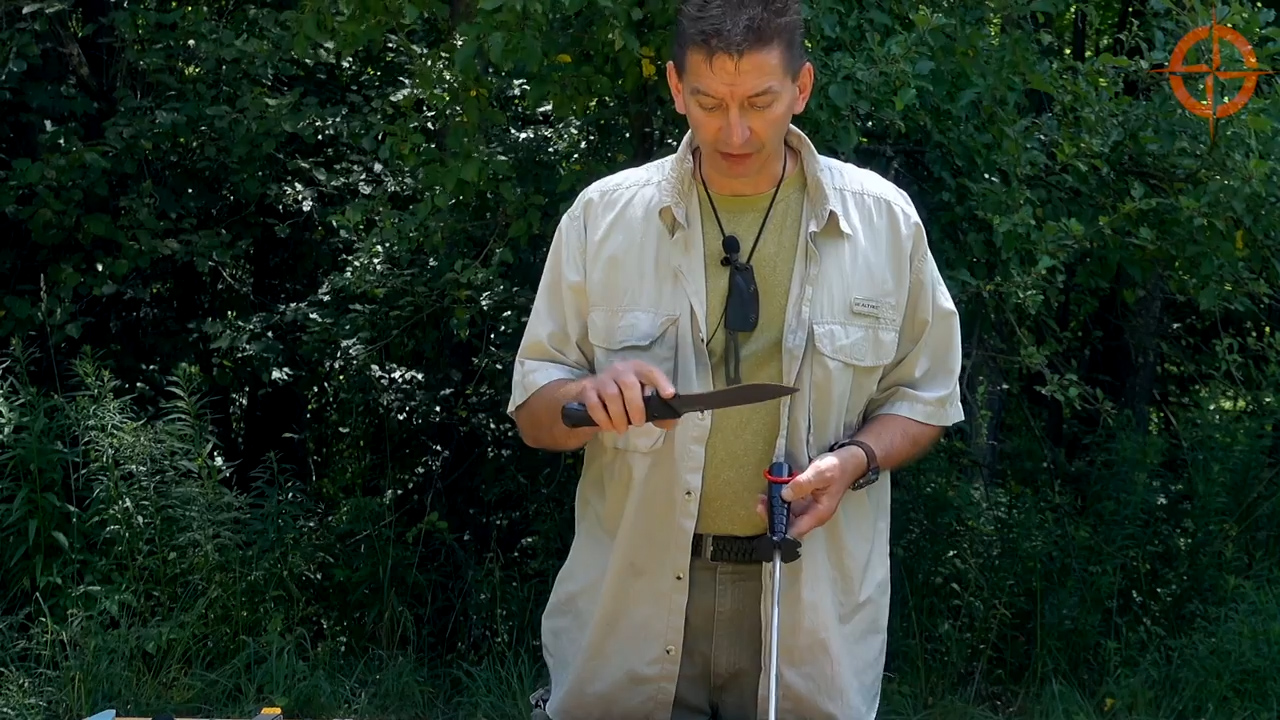knife: (558, 355, 806, 434)
